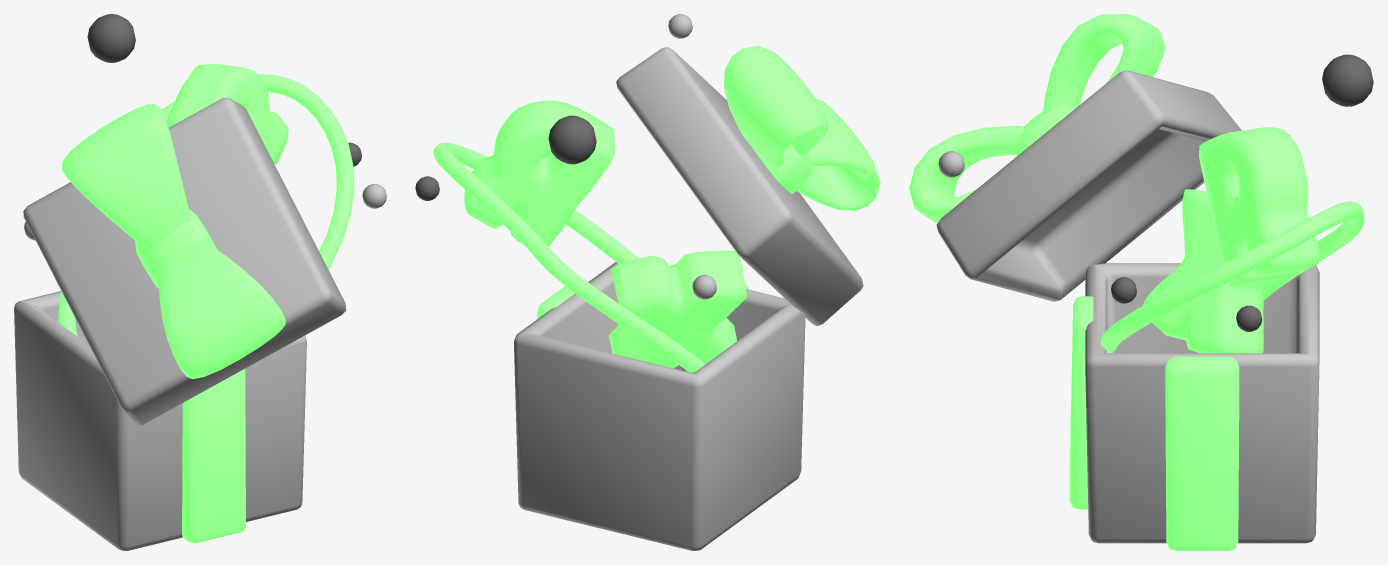
The model's file is Cat_Event.glb.
The picture shows the model from 3 angles, left to right: view 1: azimuth 30°, elevation 25°; view 2: azimuth 150°, elevation 25°; view 3: azimuth 270°, elevation 25°; orthographic projection. The views are drawn at different scales.
Visible parts, largest first — view 1: Event_Group; view 2: Event_Group; view 3: Event_Group.
Boxes of the visible parts, x1,y1,x2,y2 form: Event_Group: (14, 14, 386, 550); Event_Group: (415, 14, 880, 550); Event_Group: (909, 14, 1373, 550).
Bounding box in the file's own units: 0.7914 × 0.9132 × 0.8381.
